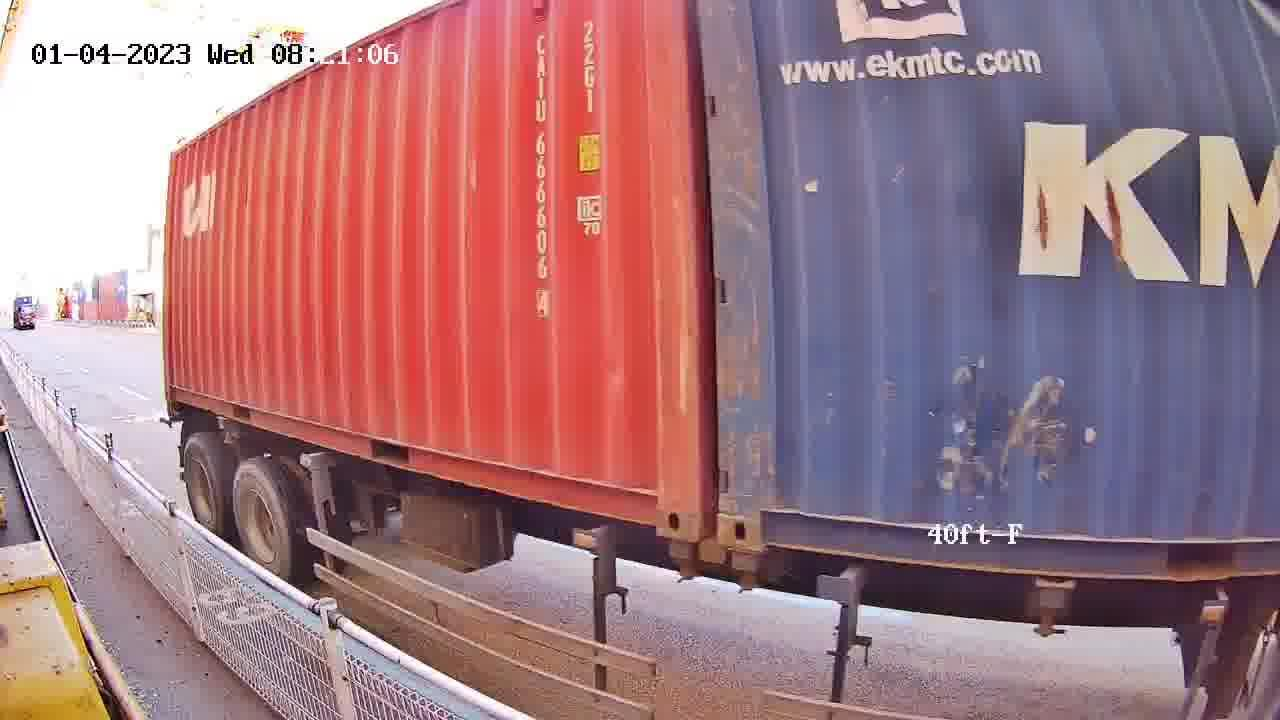Cone: (723, 548, 769, 593), (663, 536, 698, 582)
Hole_L: (718, 466, 814, 556)
Hole_R: (623, 458, 697, 542)
Tire: (233, 461, 296, 588), (184, 438, 227, 545)
